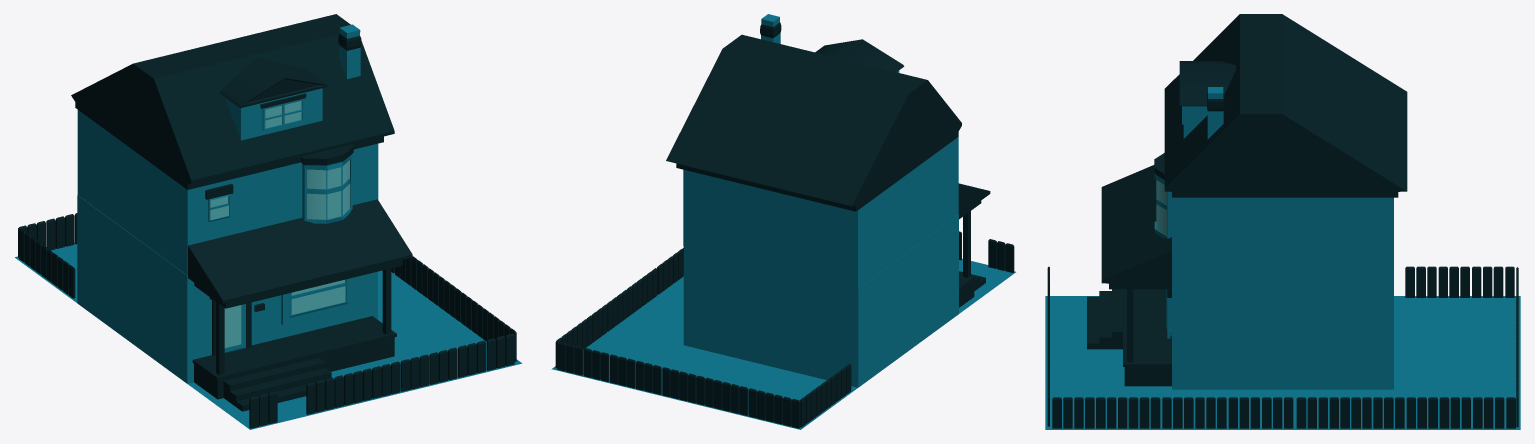
The model's file is house_M_v1_athena.FBX.
3 views of the same model, side by side, from view 1: azimuth 30°, elevation 25°; view 2: azimuth 150°, elevation 25°; view 3: azimuth 270°, elevation 25° (orthographic). The views are drawn at different scales.
Visible parts, largest first — view 1: alpha; view 2: alpha; view 3: alpha.
Boxes of the visible parts, x1,y1,x2,y2 form: alpha: [15, 14, 522, 429]; alpha: [551, 14, 1015, 429]; alpha: [1045, 14, 1520, 429].
Size of the model in its own units: 1000 by 1033 by 1500.
